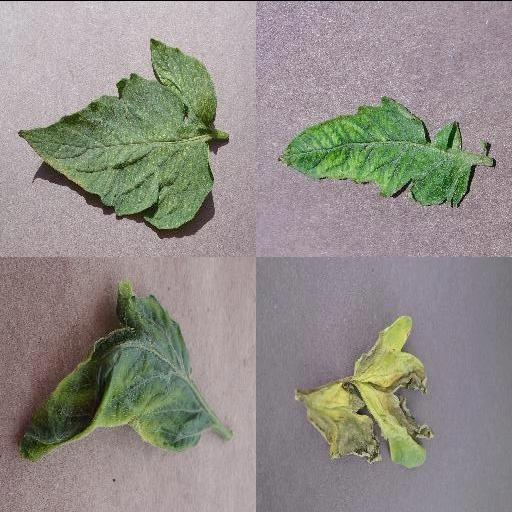Late Blight: (300, 313, 436, 465)
Mosaic Virus: (276, 94, 474, 206)
Spider Mites: (16, 38, 218, 228)
Yellow Leaf Curl Virus: (15, 282, 213, 462)
